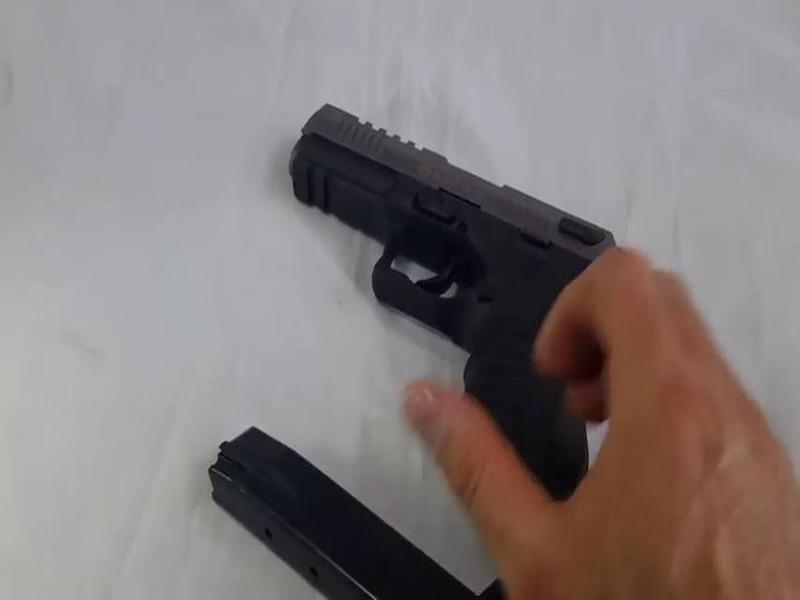Pistola: (284, 97, 642, 462)
